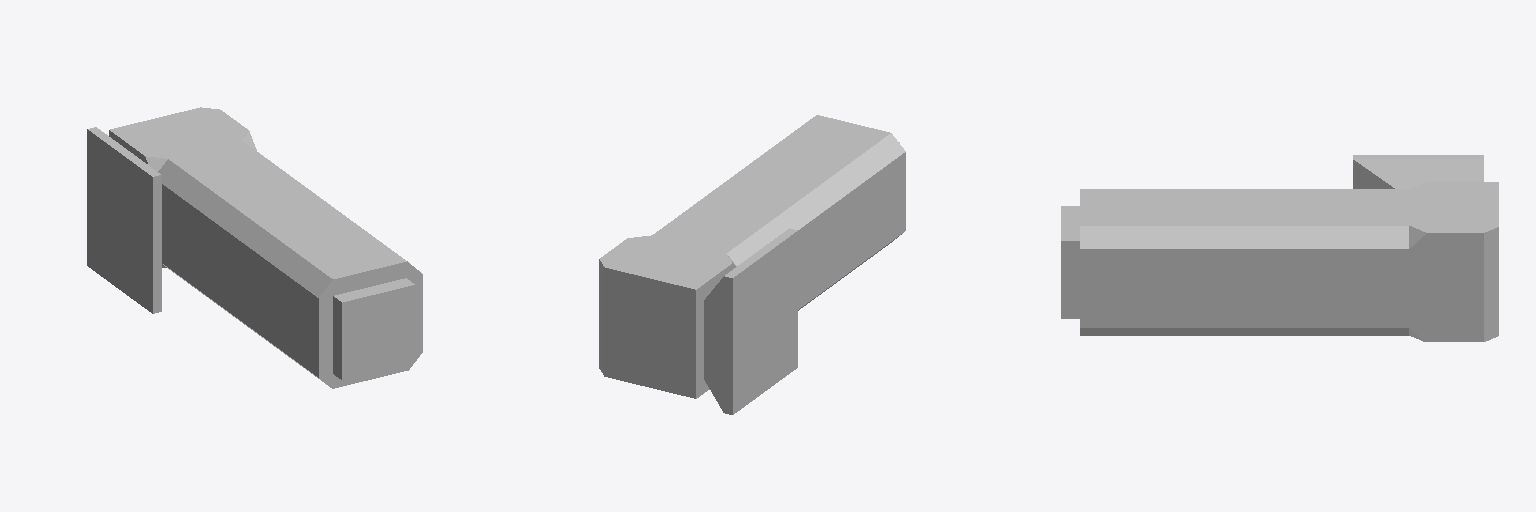
The model's file is BrazoIzquierdoRobot1.obj.
The picture shows the model from 3 angles: view 1: azimuth 30°, elevation 25°; view 2: azimuth 150°, elevation 25°; view 3: azimuth 270°, elevation 25°; orthographic projection.
Visible parts, largest first — view 1: BrazoIzquierdoRobot1; view 2: BrazoIzquierdoRobot1; view 3: BrazoIzquierdoRobot1.
Boxes of the visible parts, x1=… form: BrazoIzquierdoRobot1: x1=87, y1=107, x2=422, y2=388; BrazoIzquierdoRobot1: x1=599, y1=115, x2=905, y2=414; BrazoIzquierdoRobot1: x1=1061, y1=155, x2=1498, y2=341.
Bounding box in the file's own units: 1.28 × 1.25 × 3.63.